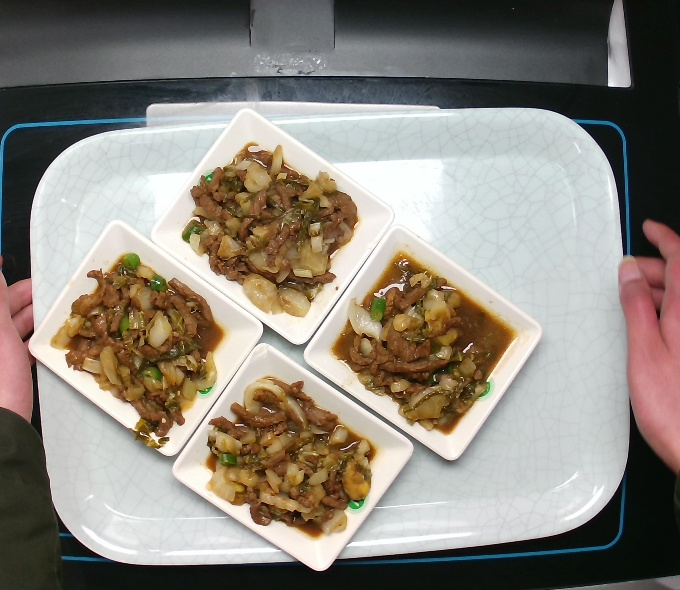wcq-PaoCaiNiuRou: (179, 146, 359, 305), (210, 381, 384, 538), (348, 253, 499, 432), (59, 253, 210, 432)
